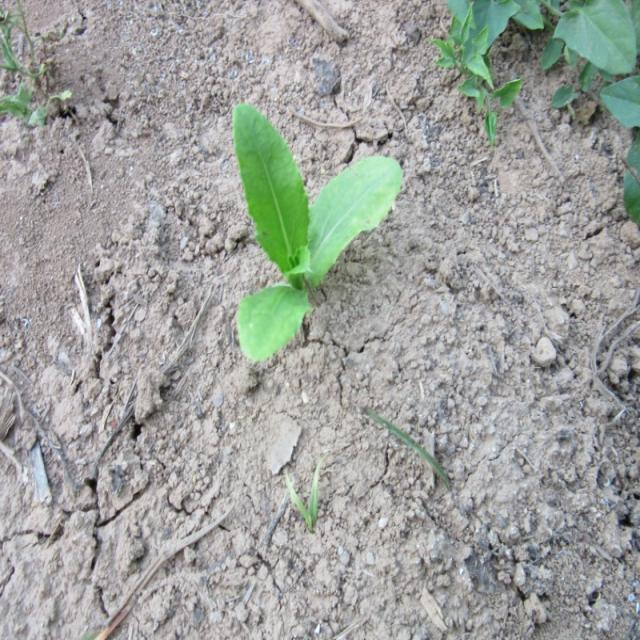cs: (230, 100, 405, 366)
